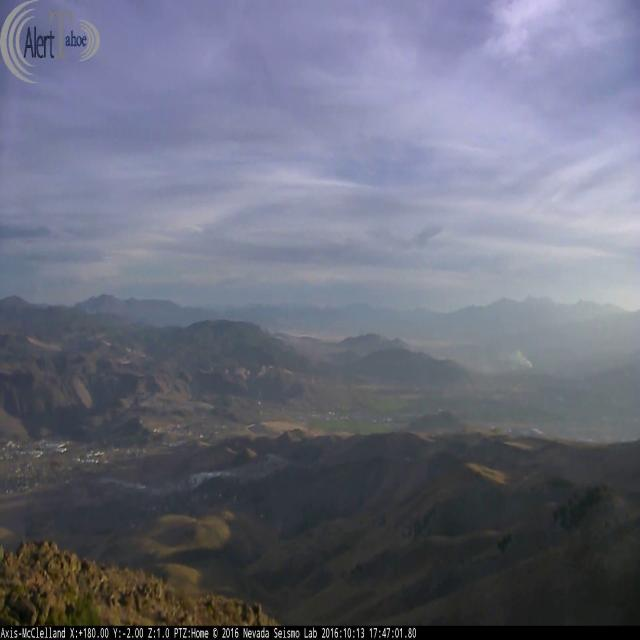smoke: (498, 345, 533, 370)
